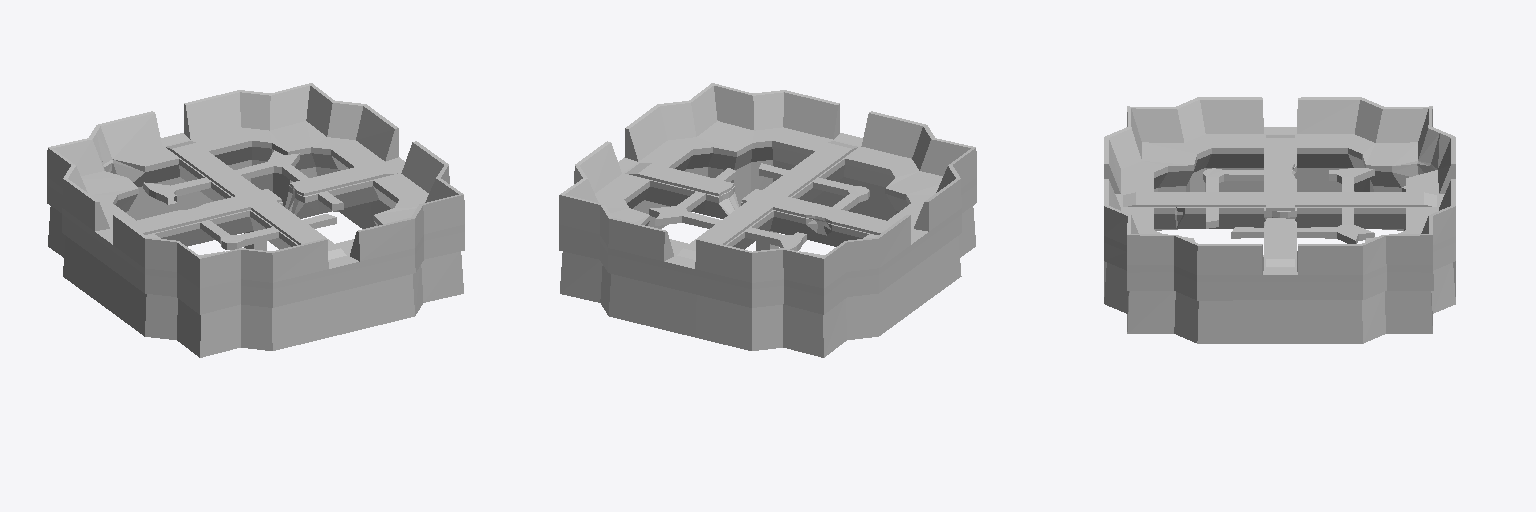
File: RubbleCrossScene.obj
3 renders of one model, left to right at view 1: azimuth 30°, elevation 25°; view 2: azimuth 150°, elevation 25°; view 3: azimuth 270°, elevation 25°, orthographic.
Parts seen in each view (by area): view 1: pCube1; view 2: pCube1; view 3: pCube1.
Part boxes in pixels (left/top/right/bottom): pCube1: left=47, top=83, right=464, bottom=357; pCube1: left=559, top=83, right=976, bottom=357; pCube1: left=1104, top=97, right=1455, bottom=343.
Bounding box in the file's own units: 54.38 × 28.95 × 54.4.